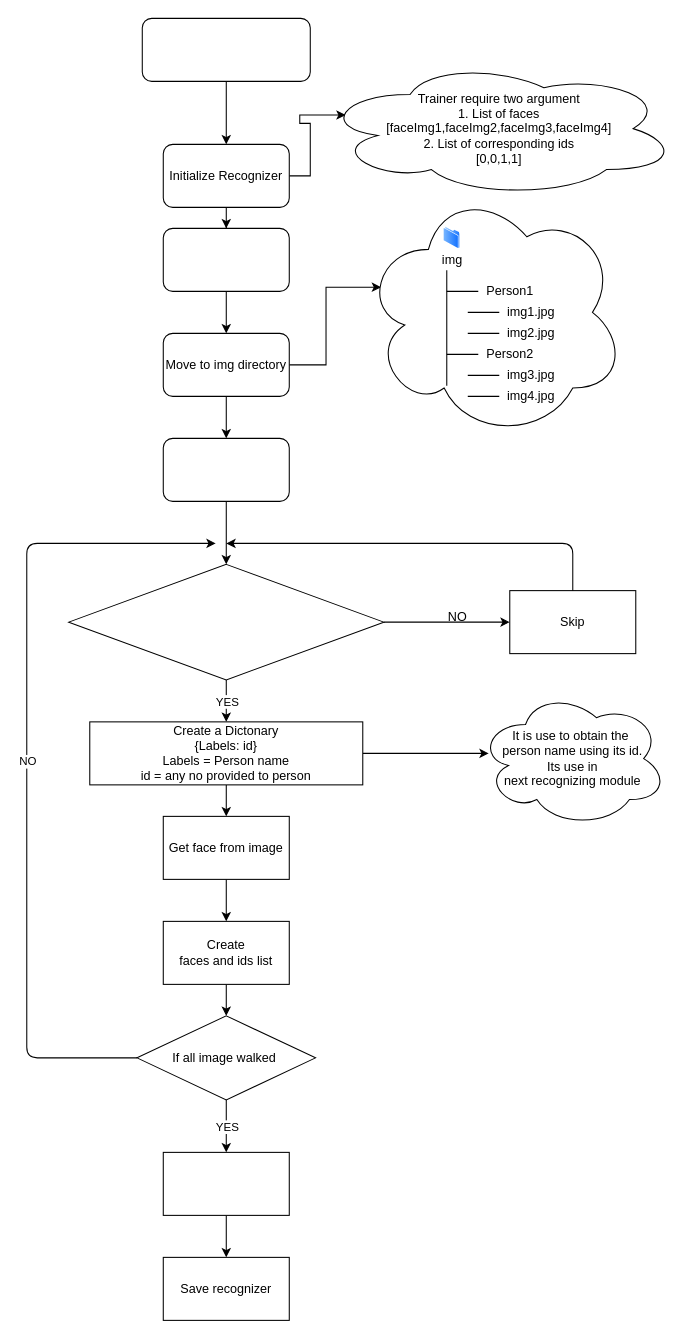
Image size: 696x1339. Some labels were removed from this diagram. The shapes that lost their labels are listed below. From the top down, each one's box as (x1, y1, x2, y2) in pixels, then its label:
(141, 17, 310, 81): START (Training on Data Base)
(162, 227, 289, 291): Initialize trainer
(162, 437, 289, 501): Walk through all files
(68, 563, 384, 680): if file end with .jpg
(162, 1151, 289, 1215): Save Labels_ids dictionary on disk
